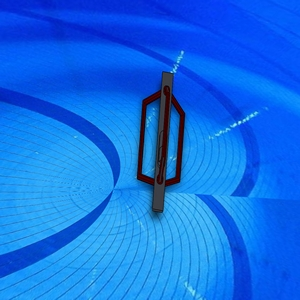submarine: (130, 62, 192, 218)
